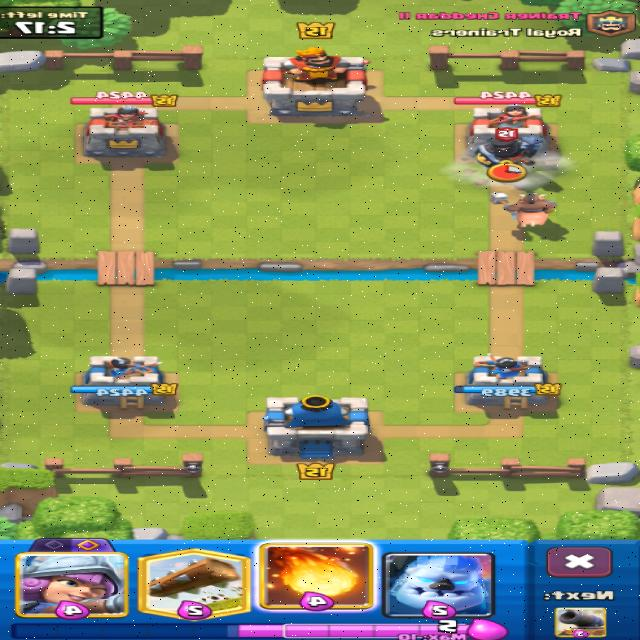Enemy-DarkPrince-Shield: (475, 129, 540, 167)
Enemy-KingTower: (263, 48, 372, 117)
Enemy-PrincessTower: (83, 106, 174, 164), (469, 105, 547, 148)
Player-HogRider: (491, 191, 557, 228)
Player-KingTower: (264, 395, 368, 459)
Player-PrincessTower: (455, 356, 561, 409), (82, 356, 177, 408)
